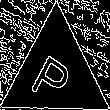P_NE: (30, 41, 81, 104)
